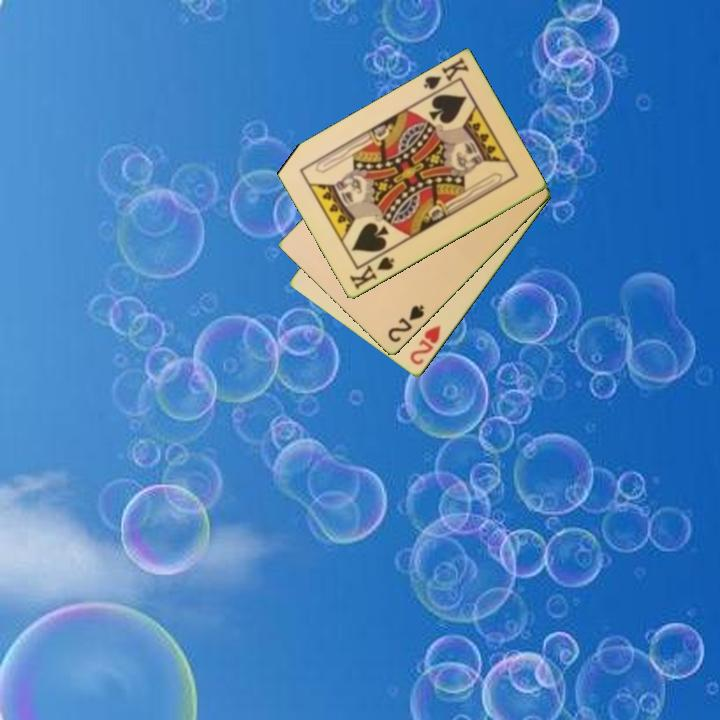2h: (406, 322, 444, 368)
2s: (384, 302, 427, 346)
Ks: (420, 54, 472, 100), (346, 253, 397, 293)
